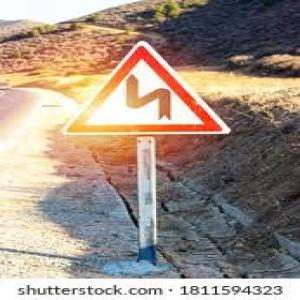bend: (62, 41, 233, 137)
